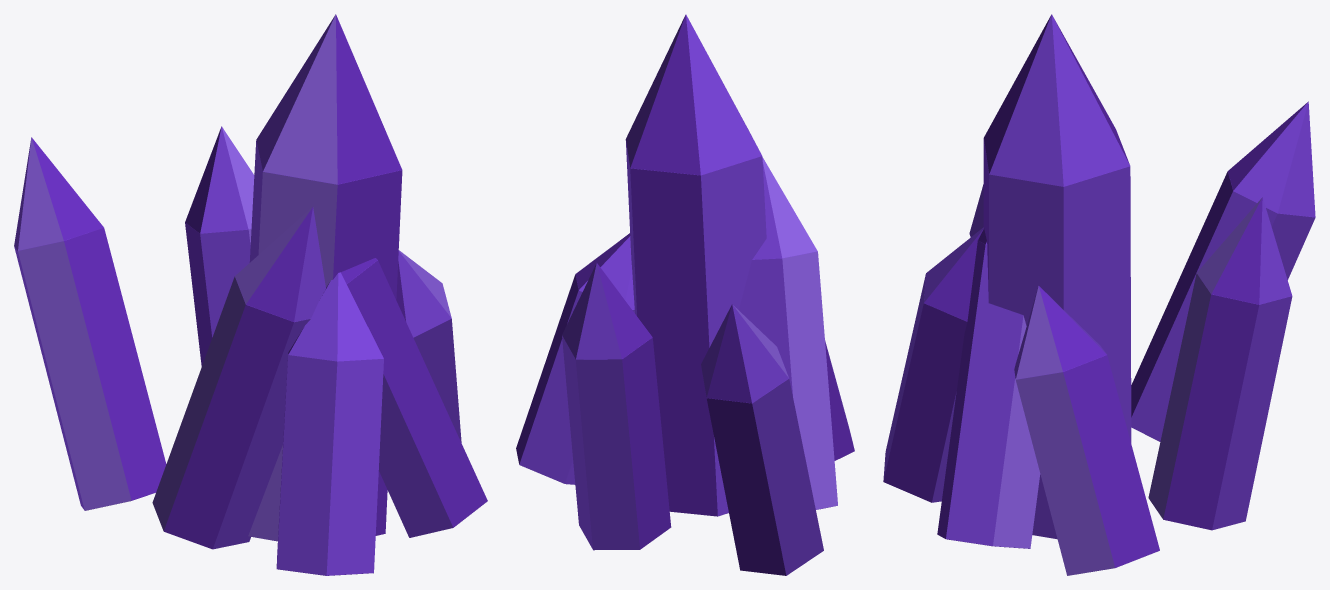
File: recipe-amethyst.glb
3 views of the same model, side by side, from view 1: azimuth 30°, elevation 25°; view 2: azimuth 150°, elevation 25°; view 3: azimuth 270°, elevation 25° (orthographic). The views are drawn at different scales.
Parts seen in each view (by area): view 1: recipe-amethyst seven-prism cluster.001; view 2: recipe-amethyst seven-prism cluster.001; view 3: recipe-amethyst seven-prism cluster.001.
Boxes of the visible parts, x1,y1,x2,y2 form: recipe-amethyst seven-prism cluster.001: (14,14,487,575); recipe-amethyst seven-prism cluster.001: (516,14,854,575); recipe-amethyst seven-prism cluster.001: (883,14,1315,575).
Bounding box in the file's own units: 7.05 × 9.3 × 7.2.
